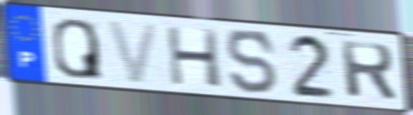2: (288, 32, 335, 102)
H: (163, 24, 224, 90)
Q: (50, 16, 105, 82)
R: (338, 39, 399, 103)
S: (224, 28, 281, 96)
V: (104, 18, 162, 85)
